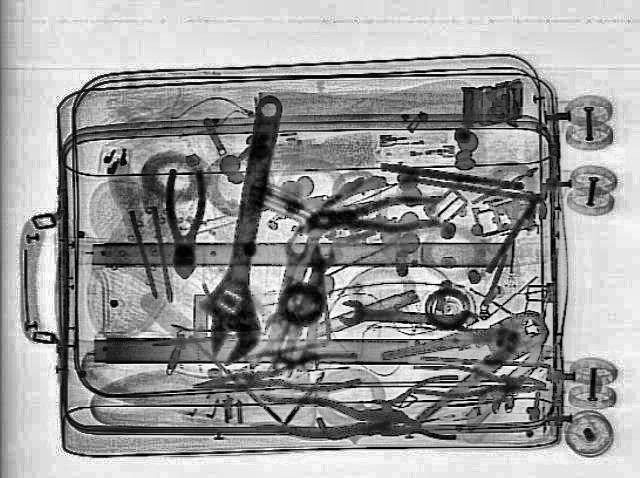Pliers: (365, 297, 575, 421), (245, 388, 423, 446), (187, 348, 363, 404), (302, 192, 444, 240), (407, 361, 545, 404), (164, 168, 206, 278)
Wrench: (186, 91, 304, 366), (336, 299, 476, 331), (272, 233, 312, 306), (302, 238, 336, 306)
